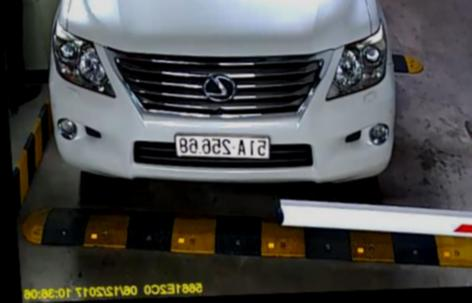License_Plate: (169, 130, 275, 162)
